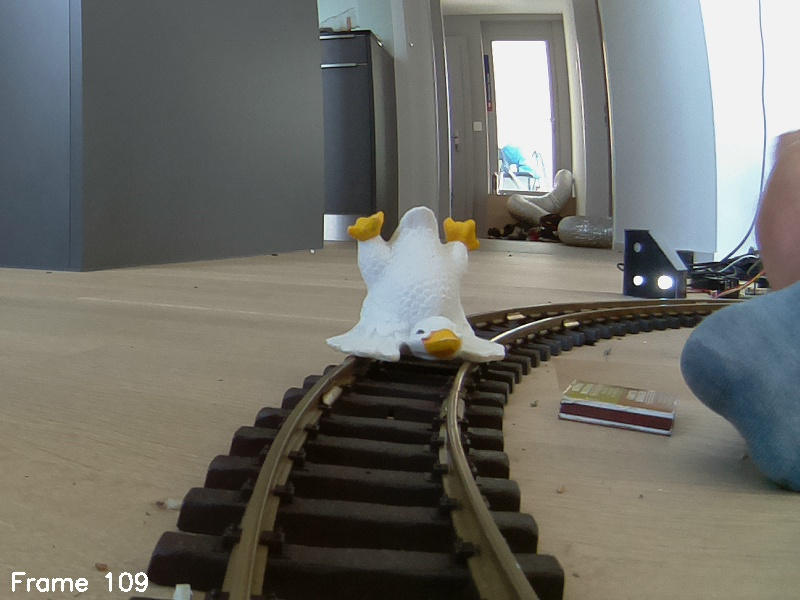Ente: (322, 203, 509, 369)
Halt: (623, 230, 688, 303)
